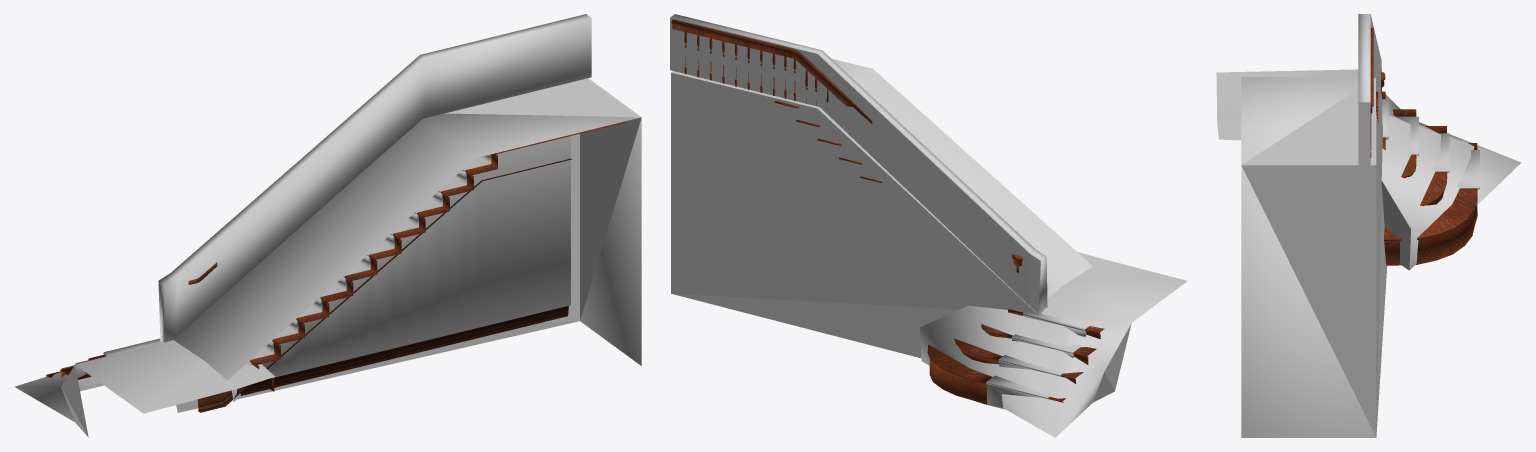
File: StaircaseCorner.fbx
3 views of the same model, side by side, from view 1: azimuth 30°, elevation 25°; view 2: azimuth 150°, elevation 25°; view 3: azimuth 270°, elevation 25° (orthographic). The views are drawn at different scales.
Visible parts, largest first — view 1: CollMeshfor short stairs, Staircase_Smaller_LOD0; view 2: CollMeshfor short stairs, Staircase_Smaller_LOD0; view 3: CollMeshfor short stairs, Staircase_Smaller_LOD0.
Part boxes in pixels (x1,y1,x2,y2): CollMeshfor short stairs: (14,14,641,437); Staircase_Smaller_LOD0: (46,121,627,412); CollMeshfor short stairs: (670,14,1187,437); Staircase_Smaller_LOD0: (671,19,1104,409); CollMeshfor short stairs: (1216,14,1521,437); Staircase_Smaller_LOD0: (1370,27,1479,265).
Size of what is drawn, in the model's own units: 530 by 303 by 248.
